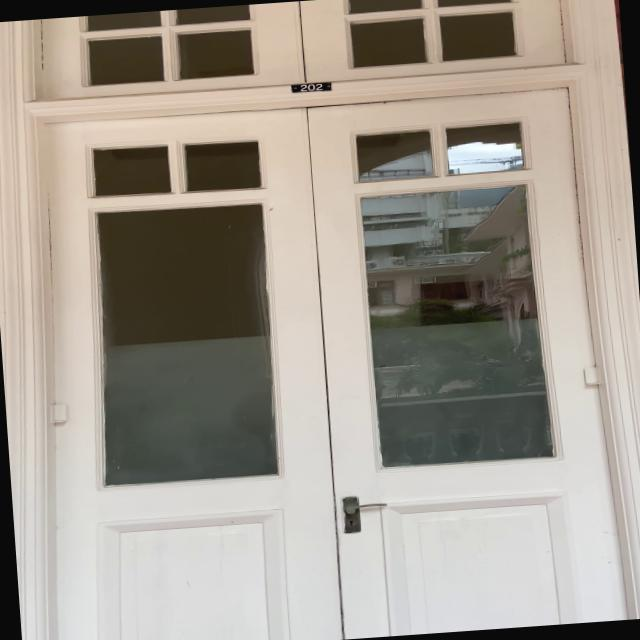room202: (288, 77, 338, 96)
